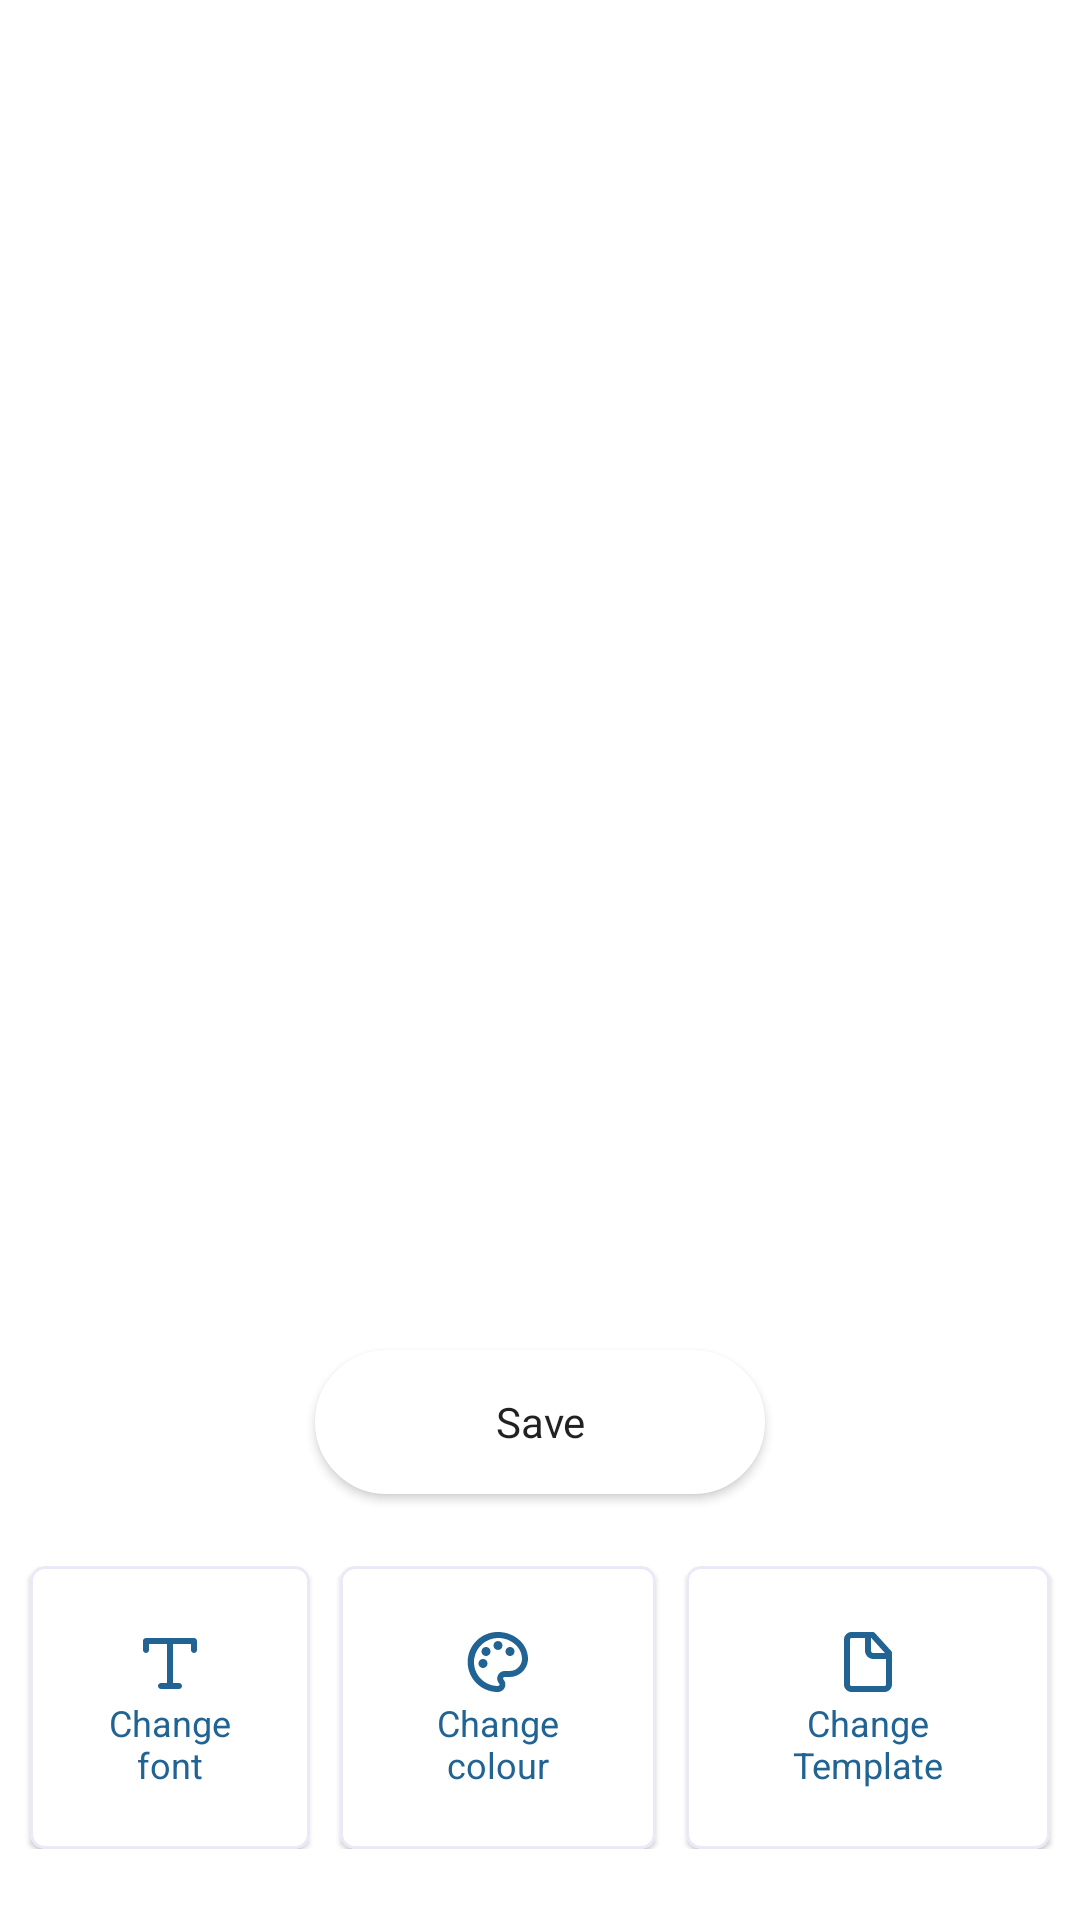

Icon click points for this 1080*1920 phone screenshot, format (x=x, y=y):
file: (x=868, y=1662)
palette: (x=497, y=1662)
textt: (x=170, y=1663)
